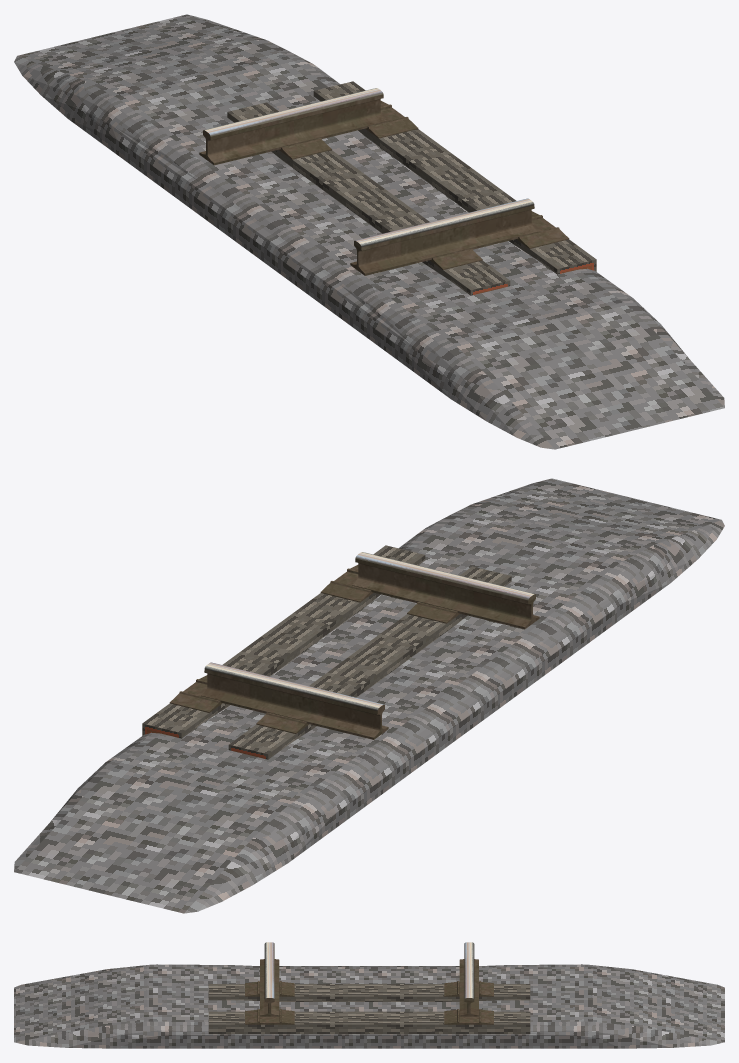
Rendered from acacia_ballast_wide.obj.
3 views of the same model, one above another, from view 1: azimuth 30°, elevation 25°; view 2: azimuth 150°, elevation 25°; view 3: azimuth 270°, elevation 25° (orthographic). The views are drawn at different scales.
Parts seen in each view (by area): view 1: RAIL_BASE.001_Plane.004, RAIL_BASE_Plane, RAIL_RIGHT_Cube.010, RAIL_LEFT_Cube.002, RAIL_BASE.002_Plane.002; view 2: RAIL_BASE.001_Plane.004, RAIL_BASE_Plane, RAIL_LEFT_Cube.002, RAIL_RIGHT_Cube.010, RAIL_BASE.002_Plane.002; view 3: RAIL_BASE.001_Plane.004, RAIL_BASE_Plane, RAIL_BASE.002_Plane.002, RAIL_LEFT_Cube.002, RAIL_RIGHT_Cube.010.
Boxes of the visible parts, x1,y1,x2,y2 form: RAIL_BASE.001_Plane.004: (14, 14, 724, 449); RAIL_BASE_Plane: (227, 81, 596, 295); RAIL_RIGHT_Cube.010: (199, 88, 386, 165); RAIL_LEFT_Cube.002: (350, 198, 537, 275); RAIL_BASE.002_Plane.002: (279, 101, 569, 269); RAIL_BASE.001_Plane.004: (14, 478, 724, 913); RAIL_BASE_Plane: (142, 545, 511, 759); RAIL_LEFT_Cube.002: (352, 552, 539, 629); RAIL_RIGHT_Cube.010: (201, 662, 388, 739); RAIL_BASE.002_Plane.002: (169, 565, 459, 733); RAIL_BASE.001_Plane.004: (14, 964, 724, 1048); RAIL_BASE_Plane: (208, 984, 530, 1034); RAIL_BASE.002_Plane.002: (245, 981, 493, 1024); RAIL_LEFT_Cube.002: (260, 942, 279, 1016); RAIL_RIGHT_Cube.010: (459, 942, 478, 1016).
Size of the model in its own units: 1.25 by 0.3683 by 5.39.
Materials: 5 (5 with a texture image).
